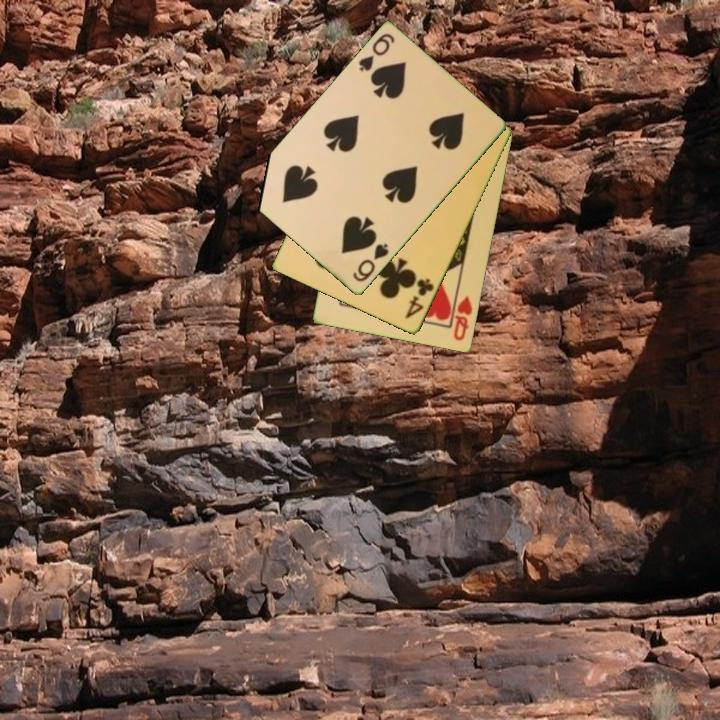4c: (402, 275, 437, 322)
6s: (349, 240, 392, 285), (355, 30, 398, 75)
Qh: (450, 293, 475, 344)
